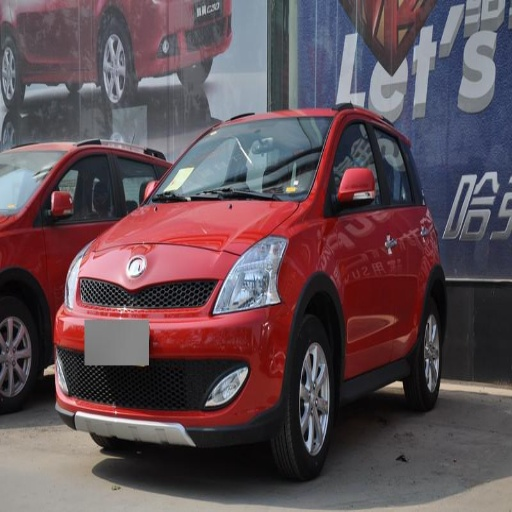front_bumper: (57, 243, 294, 446)
front_glass: (147, 119, 331, 201)
front_left_door: (328, 114, 399, 373), (43, 150, 109, 266)
